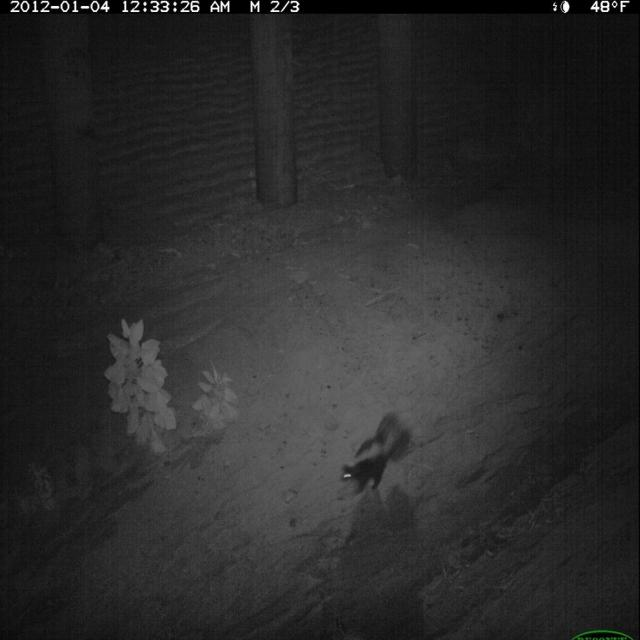skunk: (338, 408, 415, 501)
